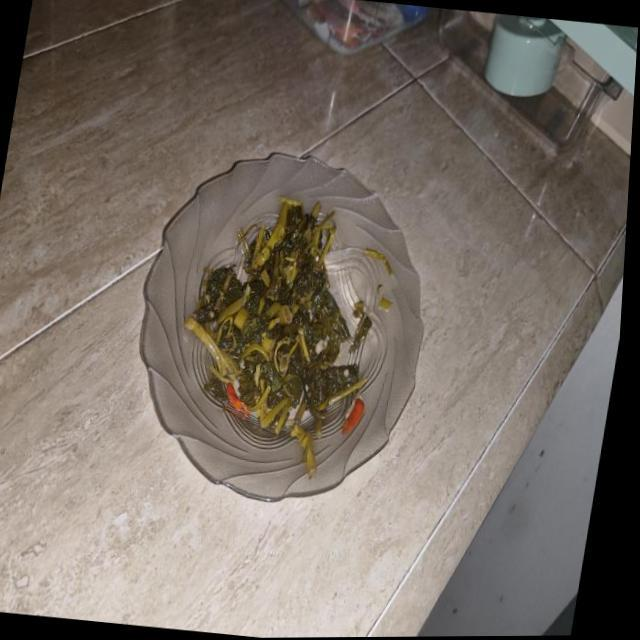tumis_kangkung: (185, 196, 358, 462)
